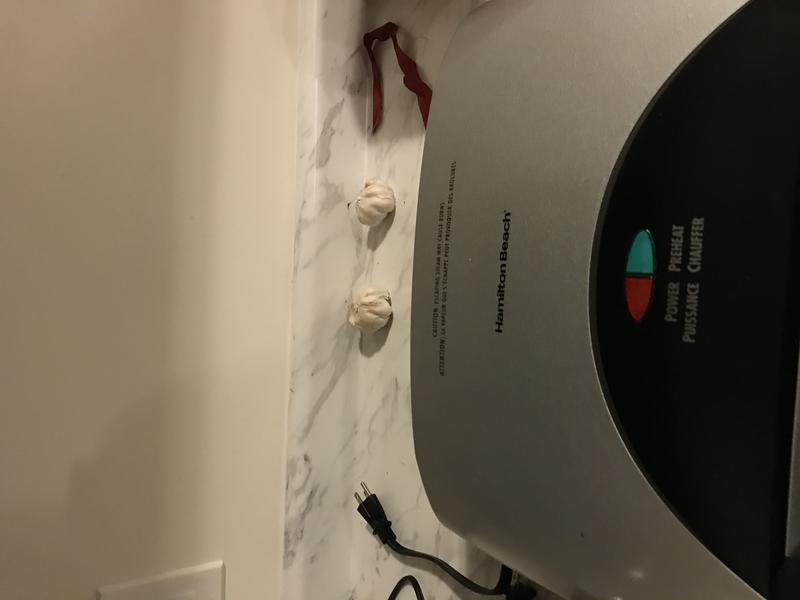garlic: (345, 175, 404, 235), (341, 284, 401, 343)
